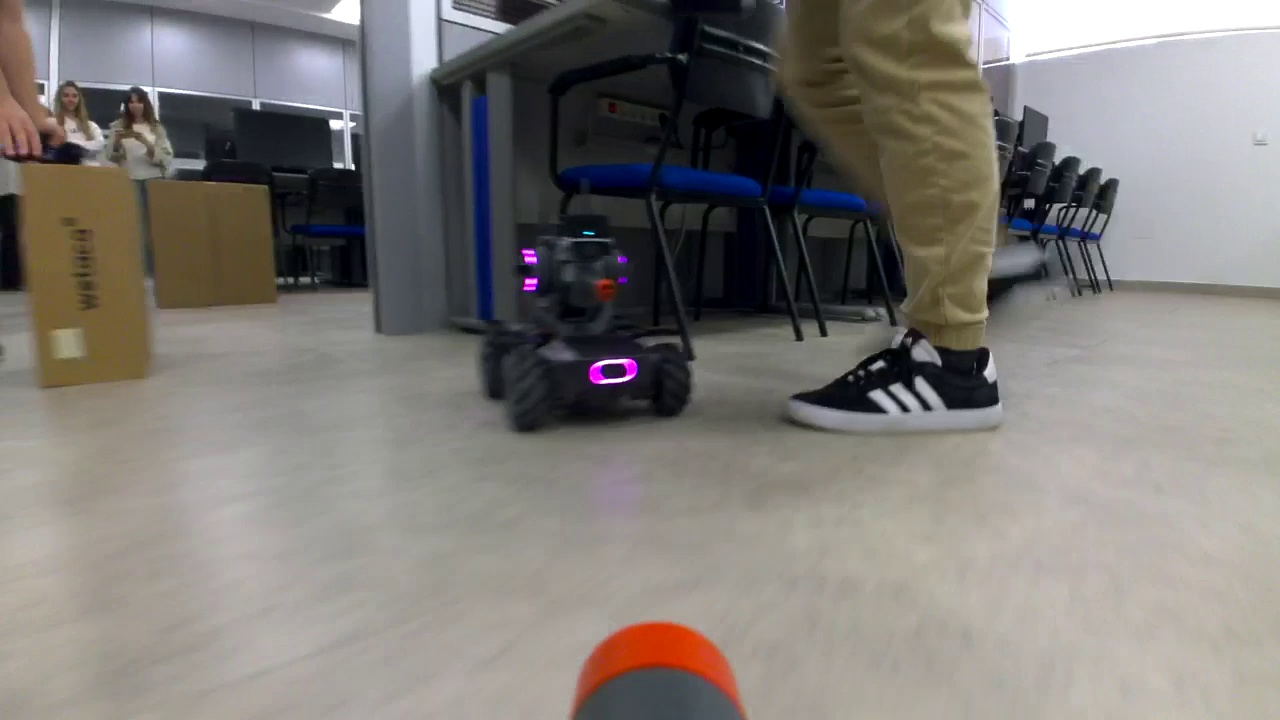robot: (477, 213, 696, 434)
